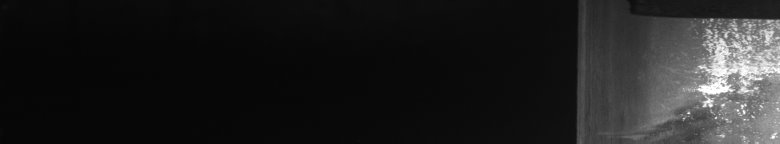kb: (676, 12, 776, 136)
